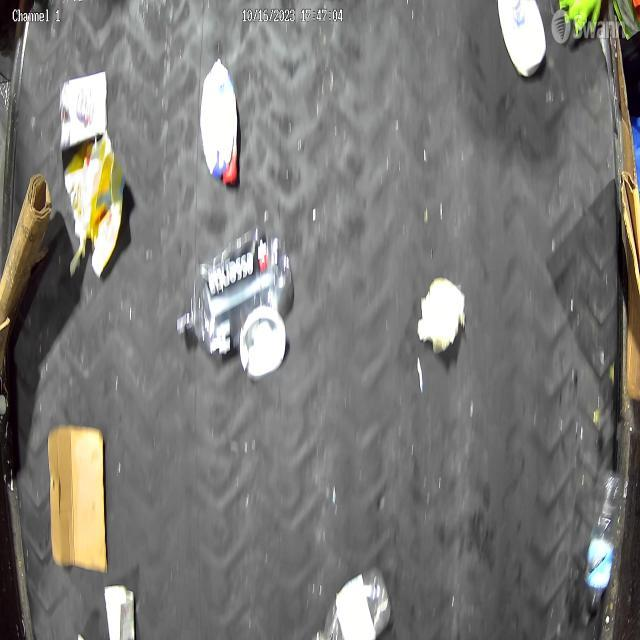plastic_bottle: (176, 218, 296, 370), (583, 465, 626, 616), (312, 564, 392, 640)
